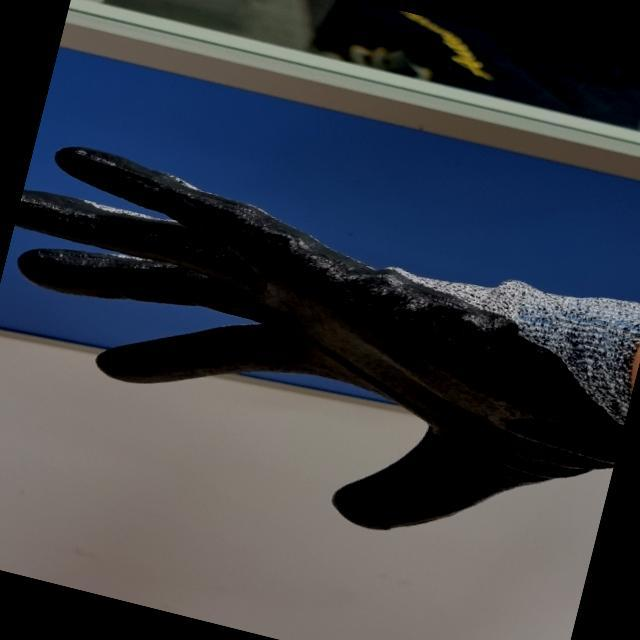Gloves: (5, 142, 611, 537)
